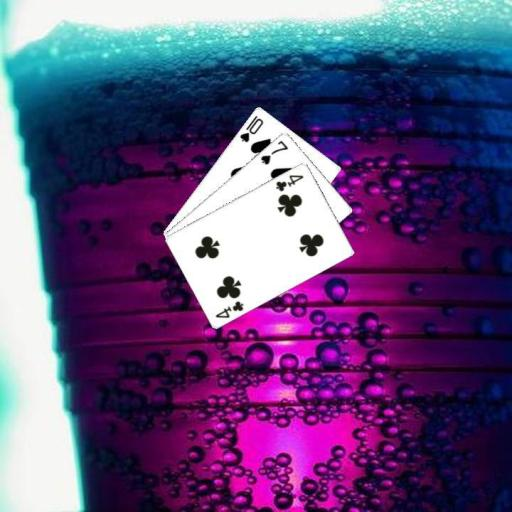10S: (237, 112, 264, 144)
4C: (272, 171, 305, 193), (212, 298, 245, 320)
7S: (258, 137, 290, 166)
